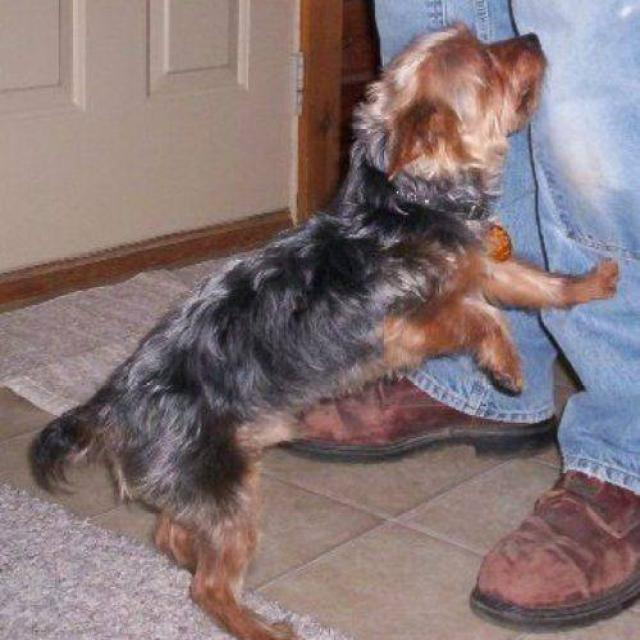Dog: (356, 19, 582, 236)
